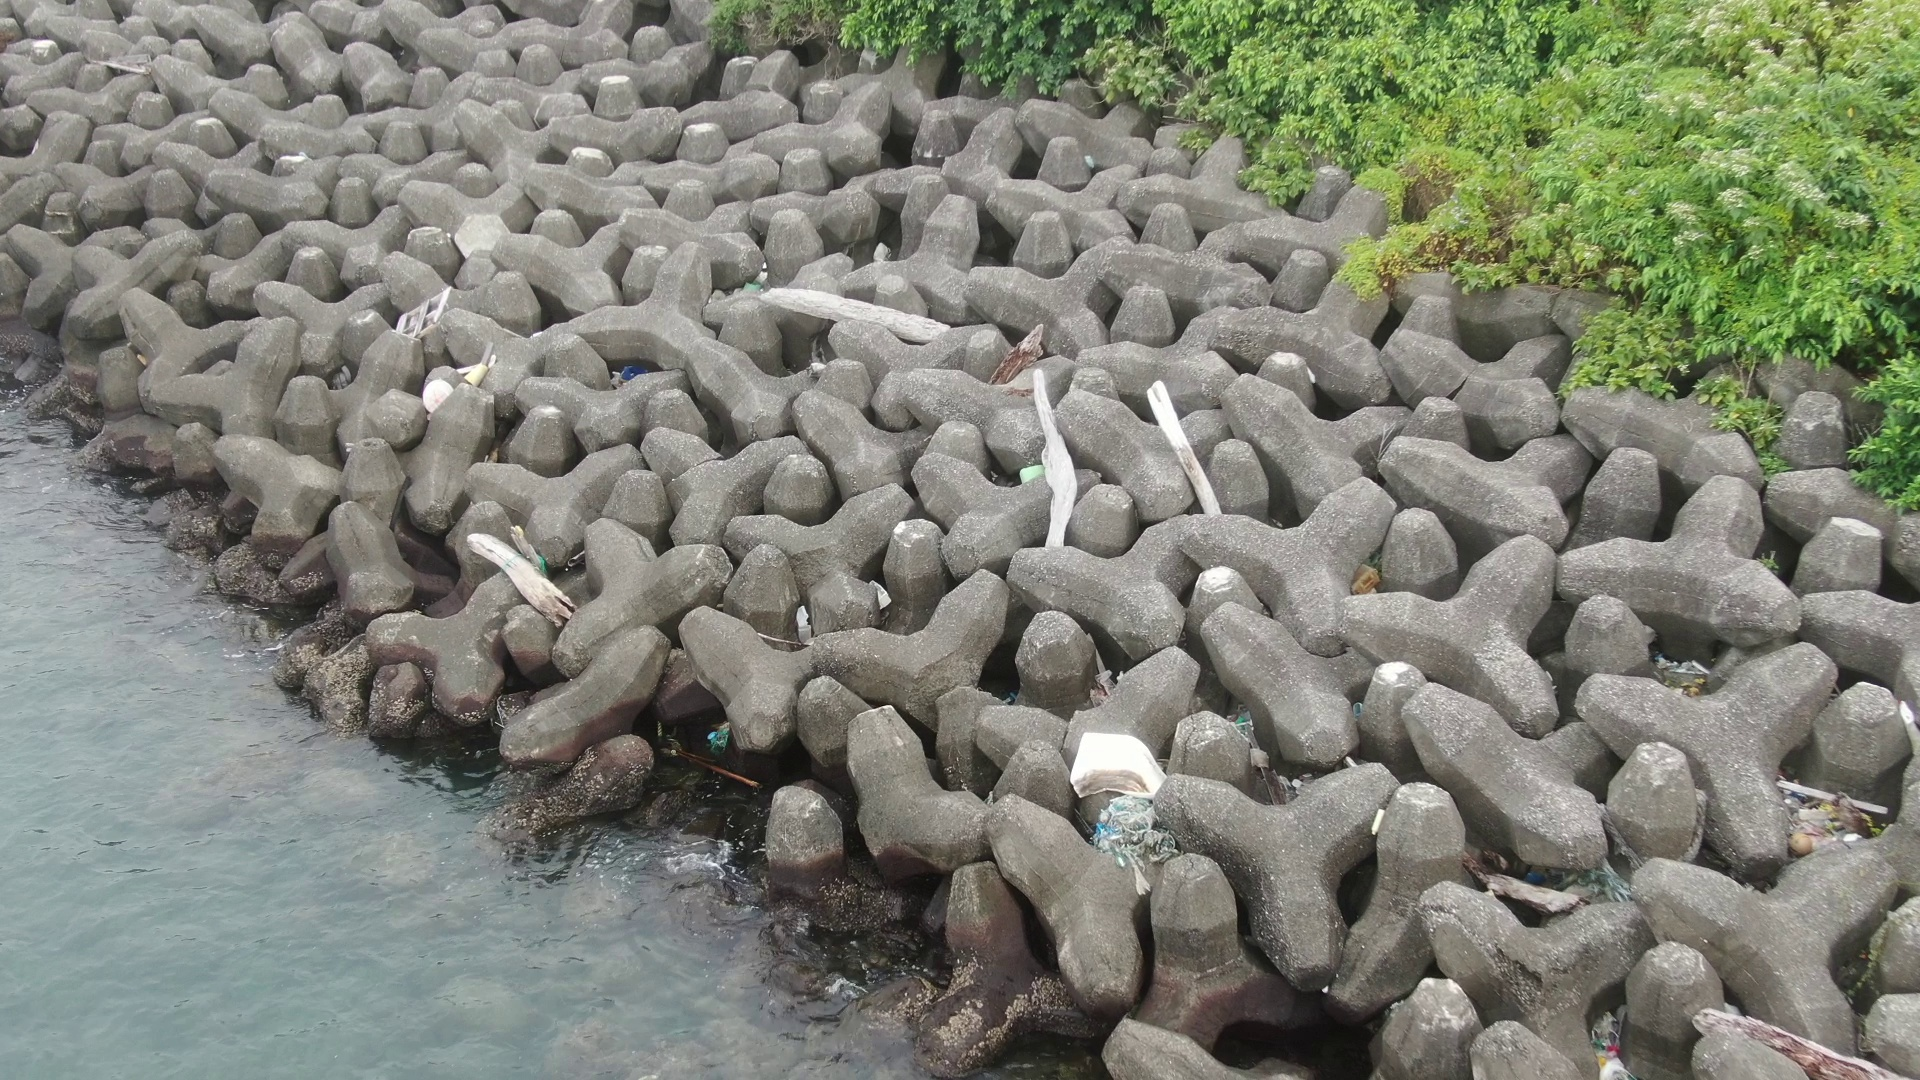garbage: (1069, 727, 1184, 885), (1453, 836, 1659, 920), (1774, 761, 1903, 869), (1564, 994, 1639, 1080), (414, 351, 516, 407), (386, 291, 464, 342), (688, 711, 746, 764), (596, 353, 647, 401), (1007, 451, 1055, 492)
